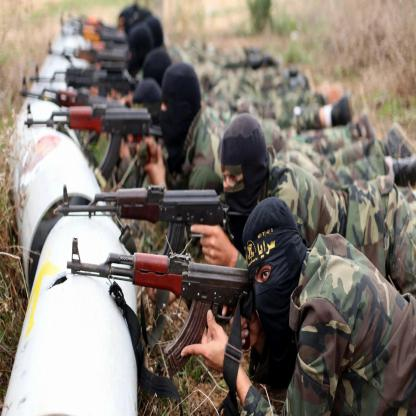rifle: (62, 233, 258, 378), (55, 174, 232, 249), (20, 98, 177, 180)
